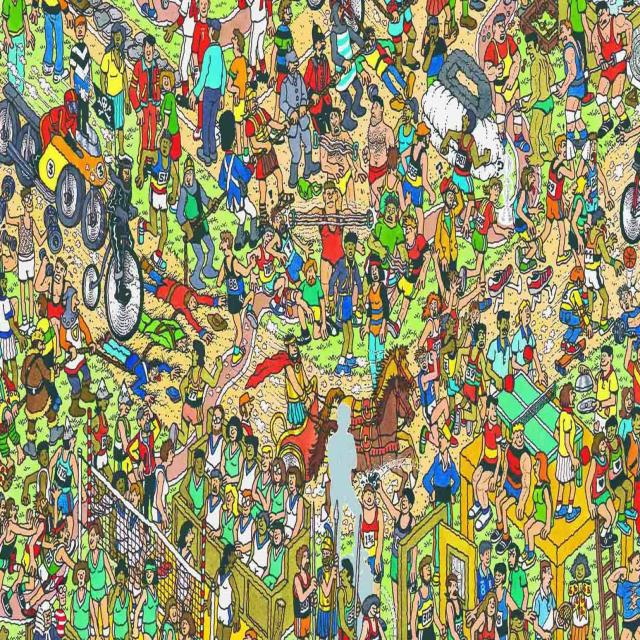waldo: (52, 574, 68, 606)
